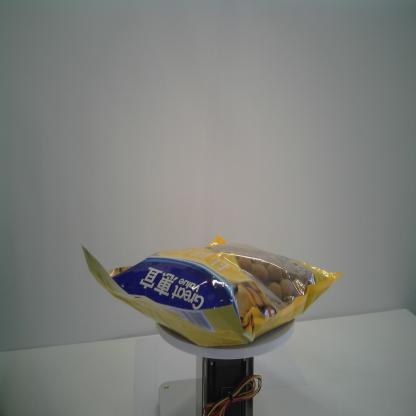Dried Food: (78, 232, 345, 351)
